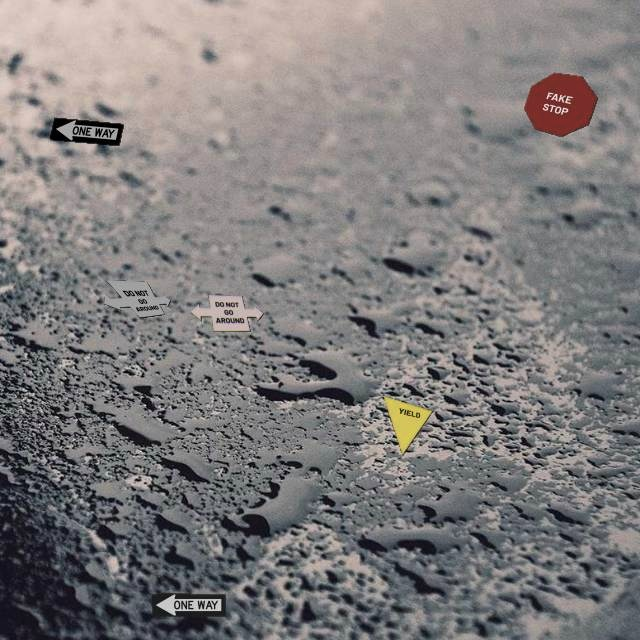DO_NOT_GO_AROUND: (189, 294, 264, 332), (103, 279, 171, 318)
FAKE_STOP: (523, 72, 598, 137)
ONE_WAY_ left: (49, 117, 124, 146), (151, 593, 226, 617)
YIELD: (382, 395, 433, 456)
